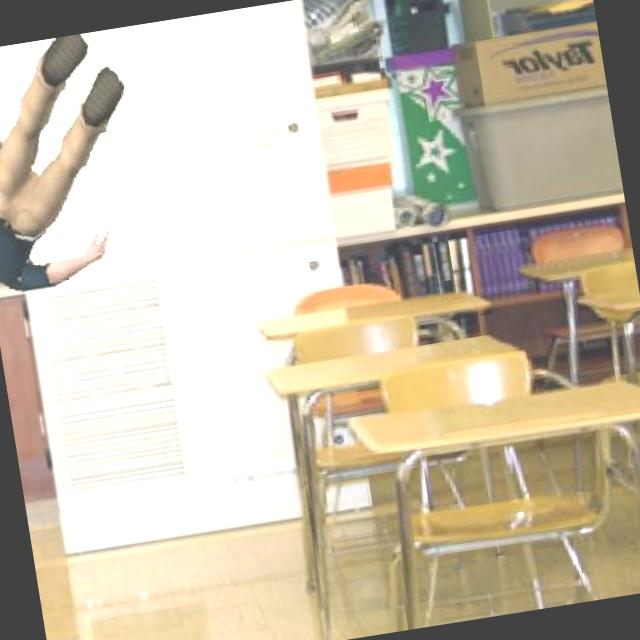Person: (0, 27, 162, 302)
